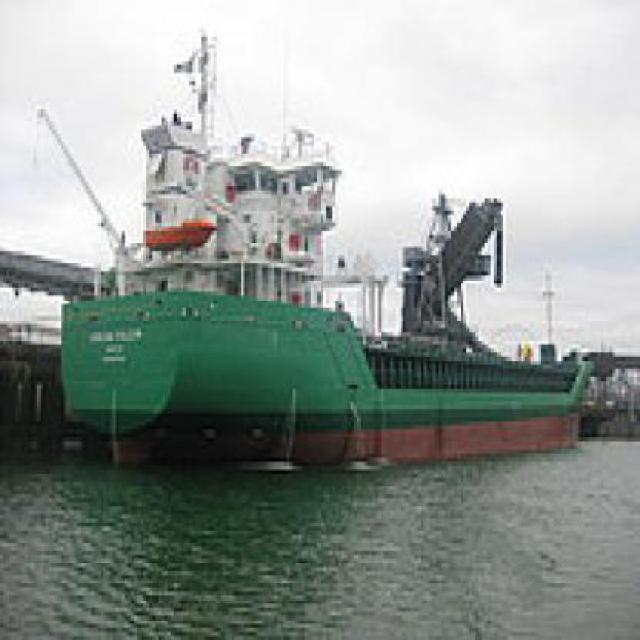container: (43, 21, 605, 487)
